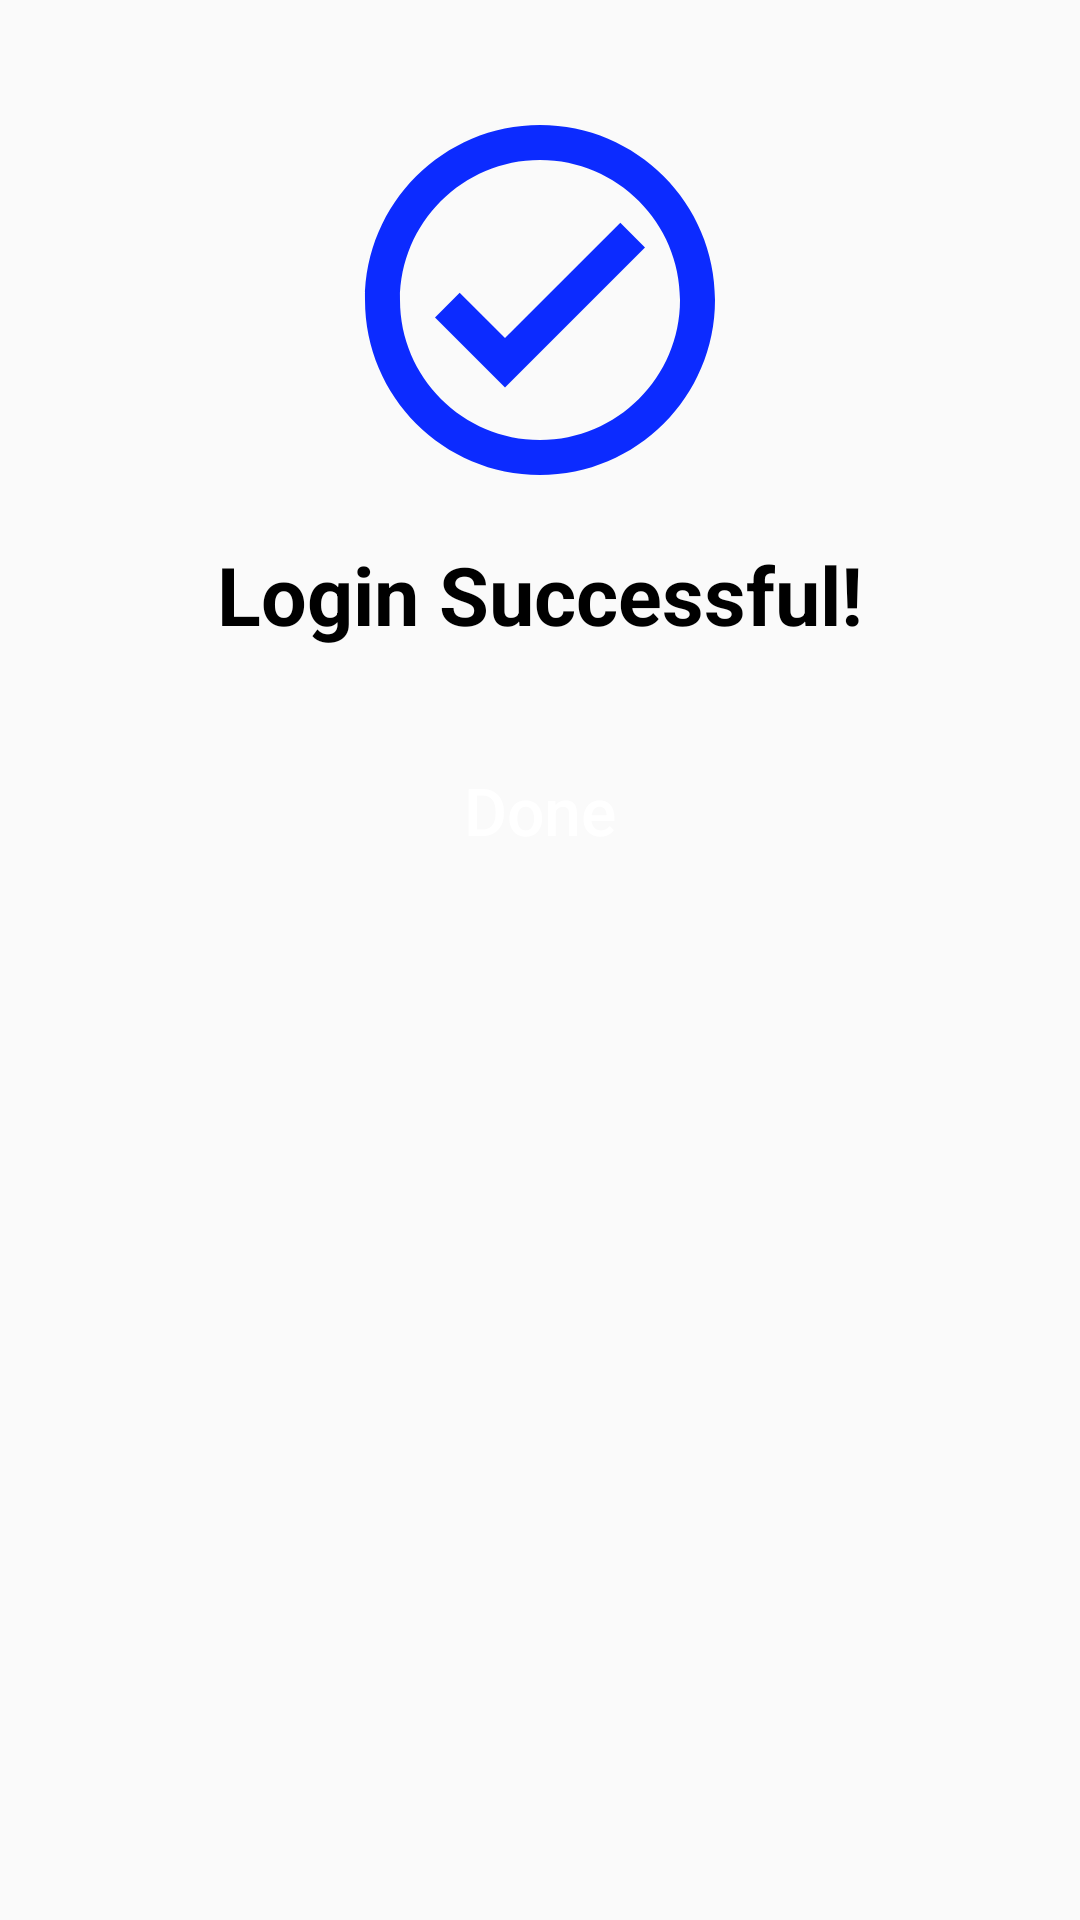

Where icons sit on this 1080w x 1920h app screen, as (x1, y1, x2, y2):
done: (365, 125, 715, 475)
